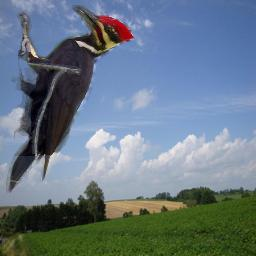Woodpecker: (6, 5, 135, 193)
